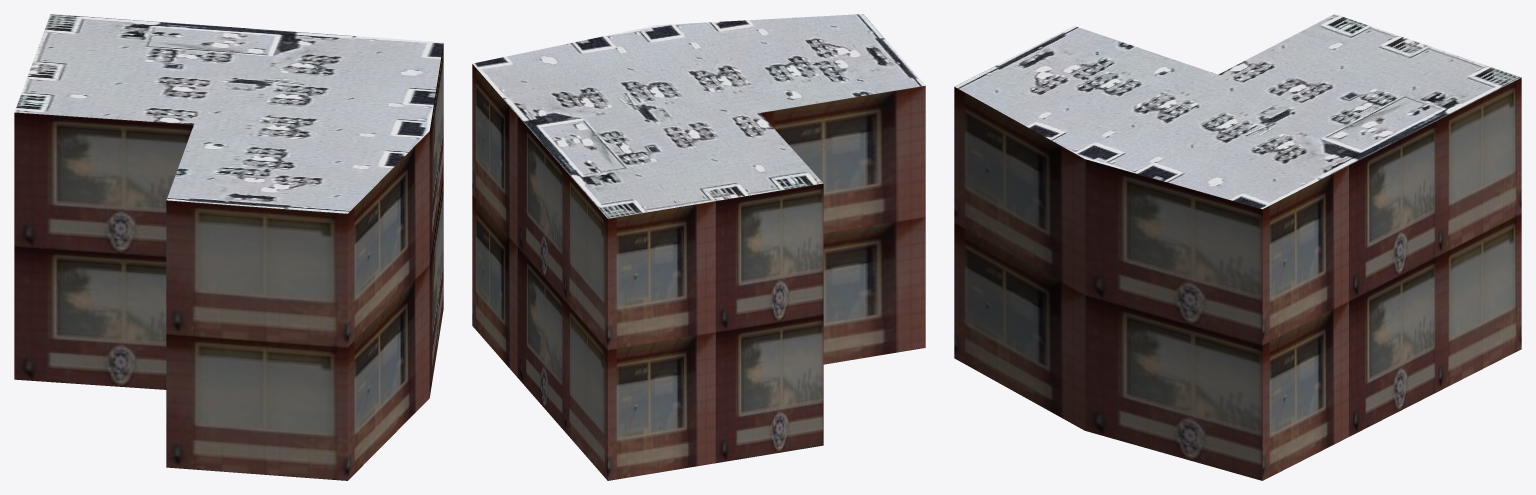
Rendered from ResTex__3532.fbx.
3 renders of one model, left to right at view 1: azimuth 30°, elevation 25°; view 2: azimuth 150°, elevation 25°; view 3: azimuth 270°, elevation 25°, orthographic. The views are drawn at different scales.
Parts seen in each view (by area): view 1: CityEngineMaterial_13_m, CityEngineMaterial_4_m; view 2: CityEngineMaterial_13_m, CityEngineMaterial_4_m; view 3: CityEngineMaterial_13_m, CityEngineMaterial_4_m.
Part boxes in pixels (x1,y1,x2,y2): CityEngineMaterial_13_m: [14, 43, 443, 480]; CityEngineMaterial_4_m: [14, 14, 443, 213]; CityEngineMaterial_13_m: [472, 64, 925, 480]; CityEngineMaterial_4_m: [472, 14, 925, 218]; CityEngineMaterial_13_m: [954, 77, 1521, 480]; CityEngineMaterial_4_m: [954, 14, 1521, 209].
Size of the model in its own units: 9.25 by 6 by 11.36.
2 materials, 2 textured.
